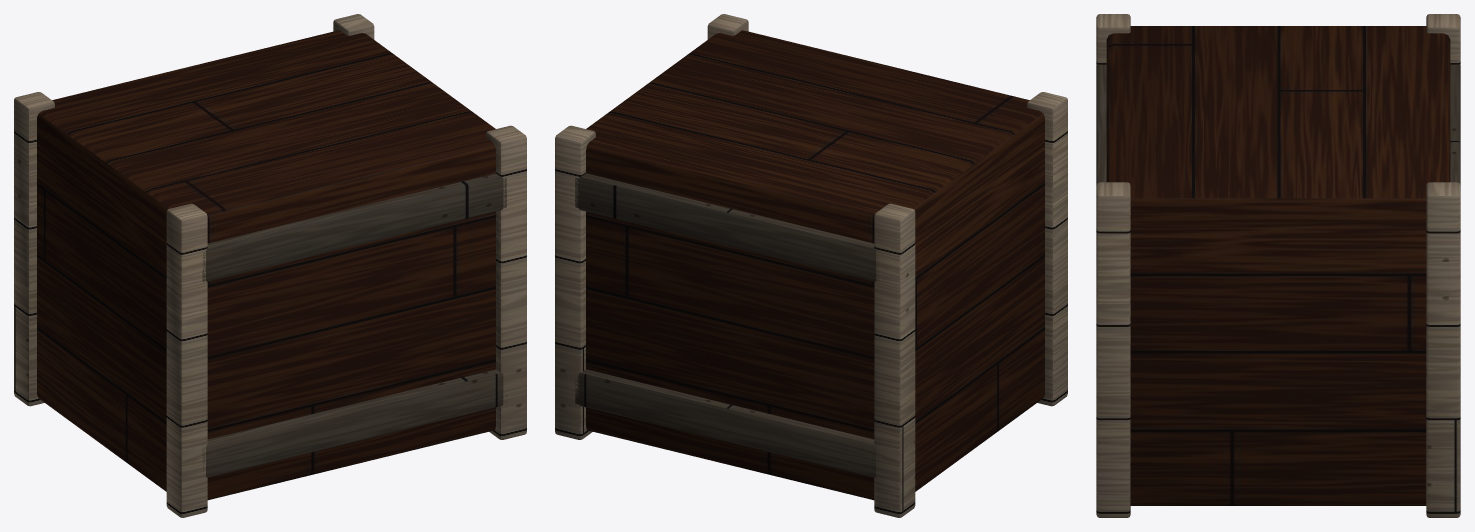
Rendered from crate.glb.
The picture shows the model from 3 angles, left to right: view 1: azimuth 30°, elevation 25°; view 2: azimuth 150°, elevation 25°; view 3: azimuth 270°, elevation 25°; orthographic projection. The views are drawn at different scales.
Visible parts, largest first — view 1: boat_house, boat_deck; view 2: boat_house, boat_deck; view 3: boat_house, boat_deck.
Part boxes in pixels (x1,y1,x2,y2): boat_house: [37, 30, 495, 500]; boat_deck: [14, 14, 526, 517]; boat_house: [586, 30, 1044, 500]; boat_deck: [555, 14, 1067, 517]; boat_house: [1106, 26, 1450, 505]; boat_deck: [1096, 14, 1460, 517].
Size of the model in its own units: 0.63 by 0.52 by 0.53.
2 materials, 2 textured.
